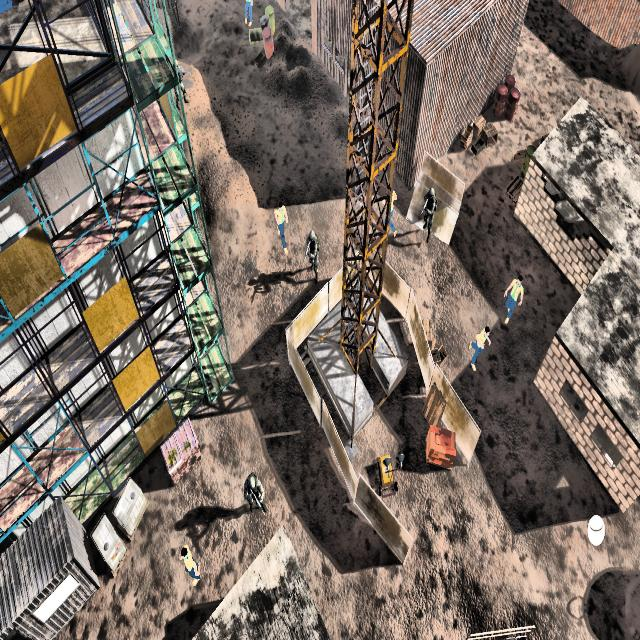bad: (238, 454, 270, 526), (417, 172, 440, 248), (302, 214, 324, 292), (174, 47, 188, 107)
good: (461, 311, 492, 373), (177, 528, 204, 592), (502, 266, 523, 340), (272, 192, 292, 262), (240, 0, 254, 27)
